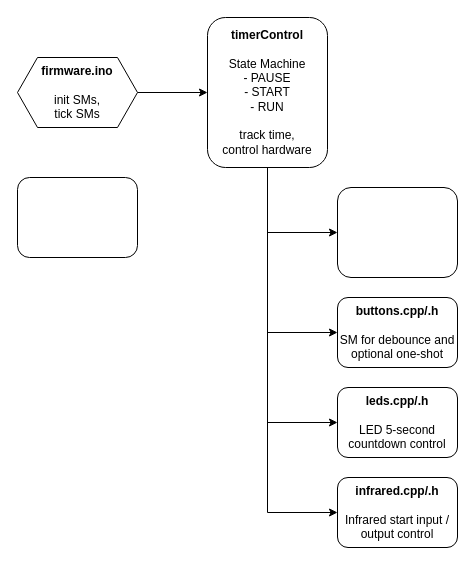
Some shapes in this 475 by 565 pixel diagram are drawn without their labels. Here are the shapes that lost their labels. From the top down, the centre of each, then its label:
At [77,217]: "pinDefs.h Assign pins to their functions".
At [397,232]: "display.cpp/.h functions to control 7-segment displays over SPI".
